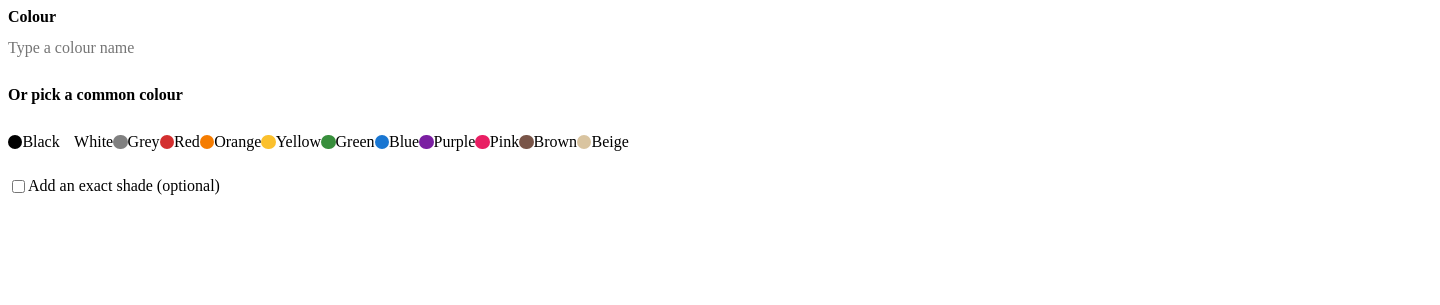
ColorValueInput › types "Wine red" with an exact shade: added as a swatch card
The width and height of the screenshot is (1440, 305).
Click the checkbox labelled "Add an exact shade (optional)" at (18, 186), box [12,180,25,192]
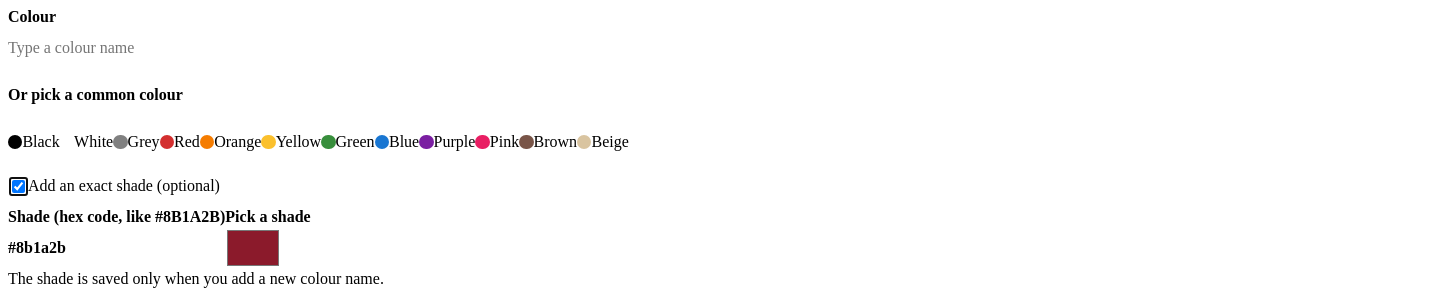
Replace the text in the field labelled "Shade (hex code, like #8B1A2B)" with "#8B1A2B" at (117, 248), box [8,226,225,270]
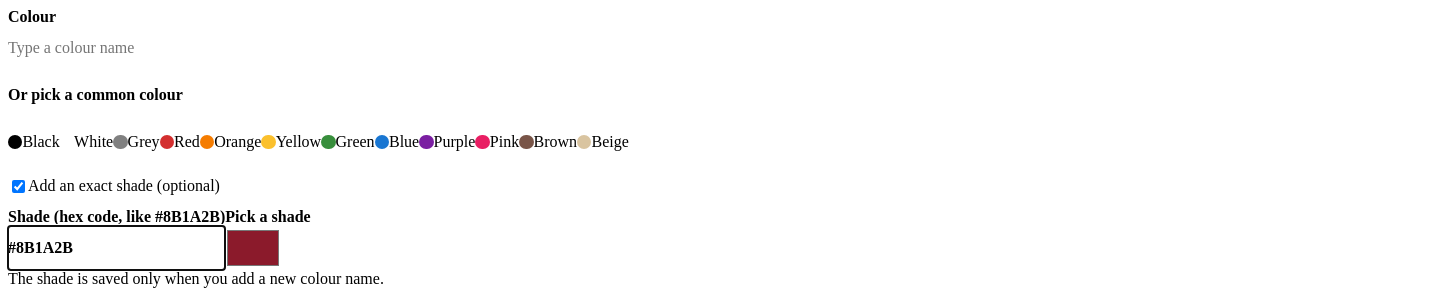
Type "Wine red" into the dropdown labelled "Colour" at (720, 48), box [8,26,1432,70]
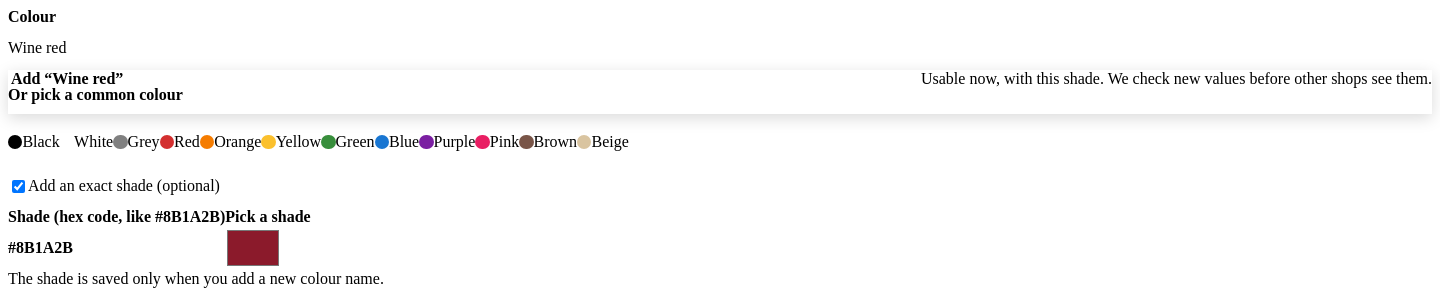
Click the option "Add “Wine red”" at (67, 78), box [11,70,1432,87]
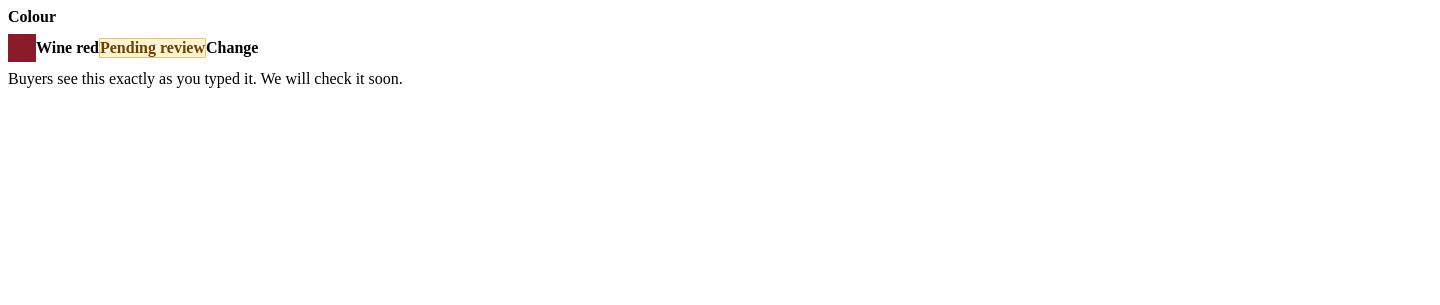
Expected: the picture named "Colour sample for Wine red" is shown, [8,34,36,62]
